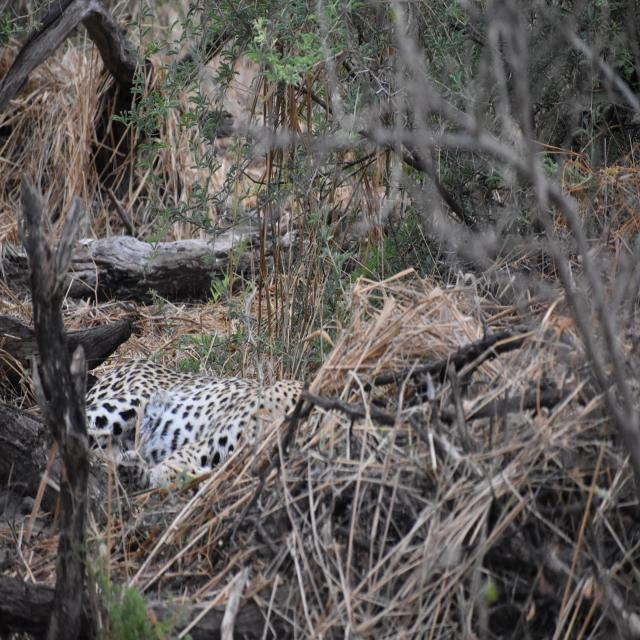Leopard: (66, 351, 324, 488)
